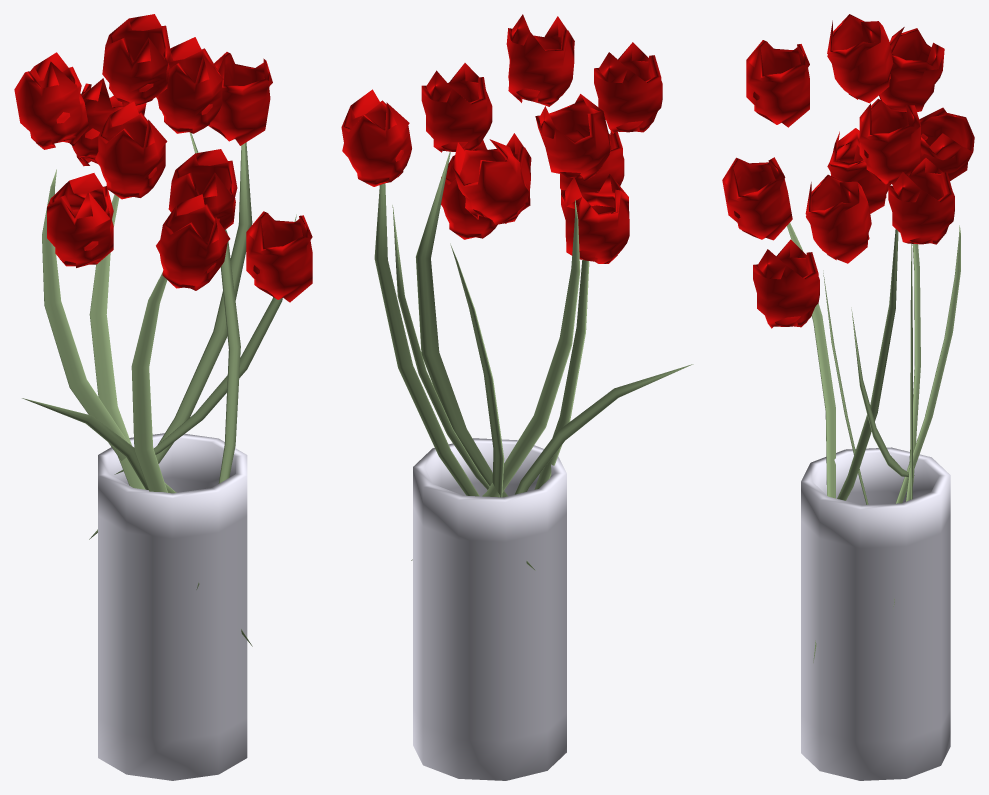
Rendered from flowers.glb.
3 views of the same model, side by side, from view 1: azimuth 30°, elevation 25°; view 2: azimuth 150°, elevation 25°; view 3: azimuth 270°, elevation 25° (orthographic). The views are drawn at different scales.
Visible parts, largest first — view 1: flowers; view 2: flowers; view 3: flowers.
Part boxes in pixels (x1,y1,x2,y2): flowers: (14,14,312,780); flowers: (341,14,693,780); flowers: (722,14,974,780).
Bounding box in the file's own units: 0.209 × 0.4988 × 0.1594.
